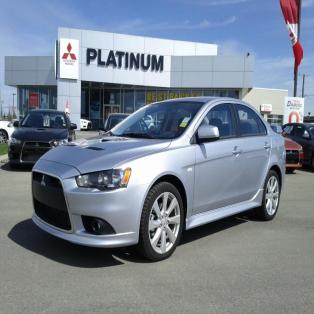Auto: (31, 96, 286, 263)
